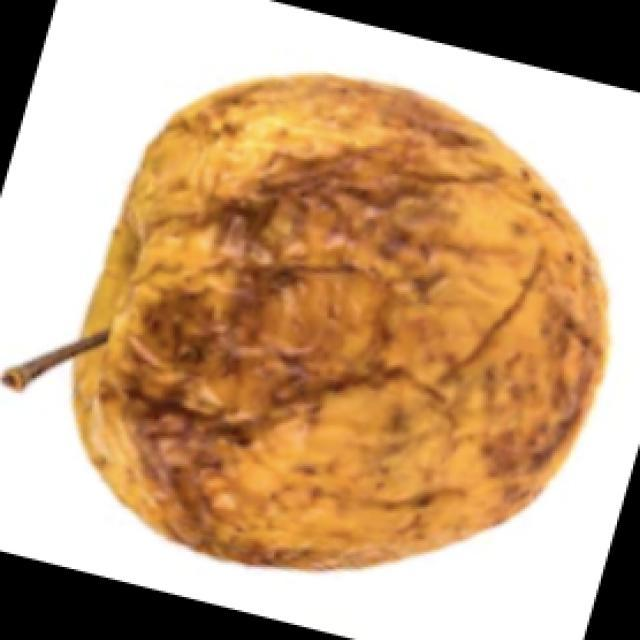Rotten: (62, 55, 613, 572)
